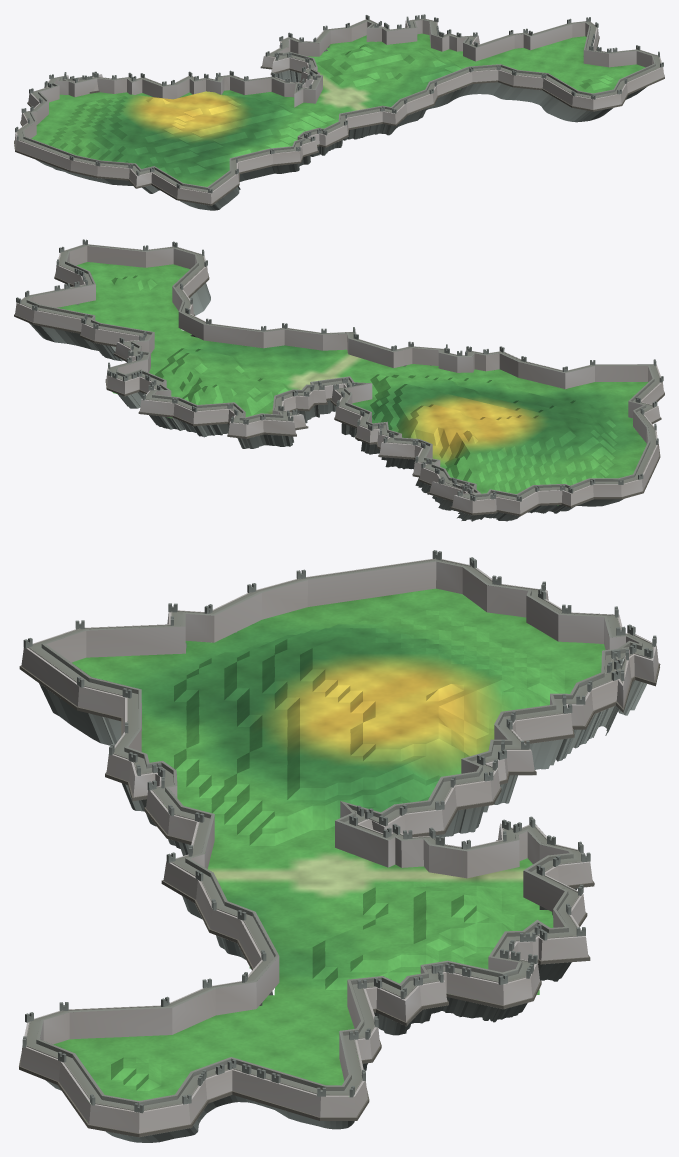
3 renders of one model, top to bottom at view 1: azimuth 30°, elevation 25°; view 2: azimuth 150°, elevation 25°; view 3: azimuth 270°, elevation 25°, orthographic. The views are drawn at different scales.
Parts seen in each view (by area): view 1: ground_bafa26ad; view 2: ground_bafa26ad; view 3: ground_bafa26ad.
Boxes of the visible parts, <box> form: ground_bafa26ad: <box>14,14,664,210</box>; ground_bafa26ad: <box>14,239,664,521</box>; ground_bafa26ad: <box>19,550,660,1142</box>.
Bounding box in the file's own units: 157 × 8.1 × 76.29.
Materials: 3 (1 with a texture image).
